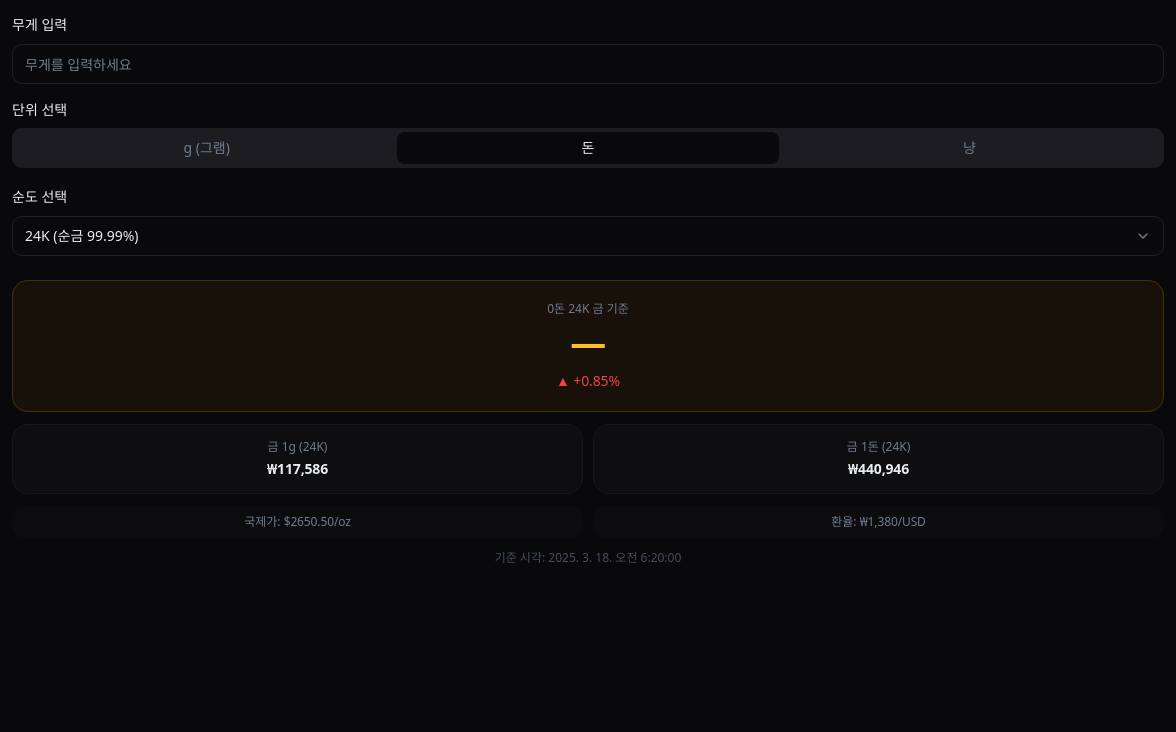
GoldCalculator › shows calculated price when weight is entered
Type "1" into the number field with test id "weight-input" at (588, 64), box [12,44,1164,84]
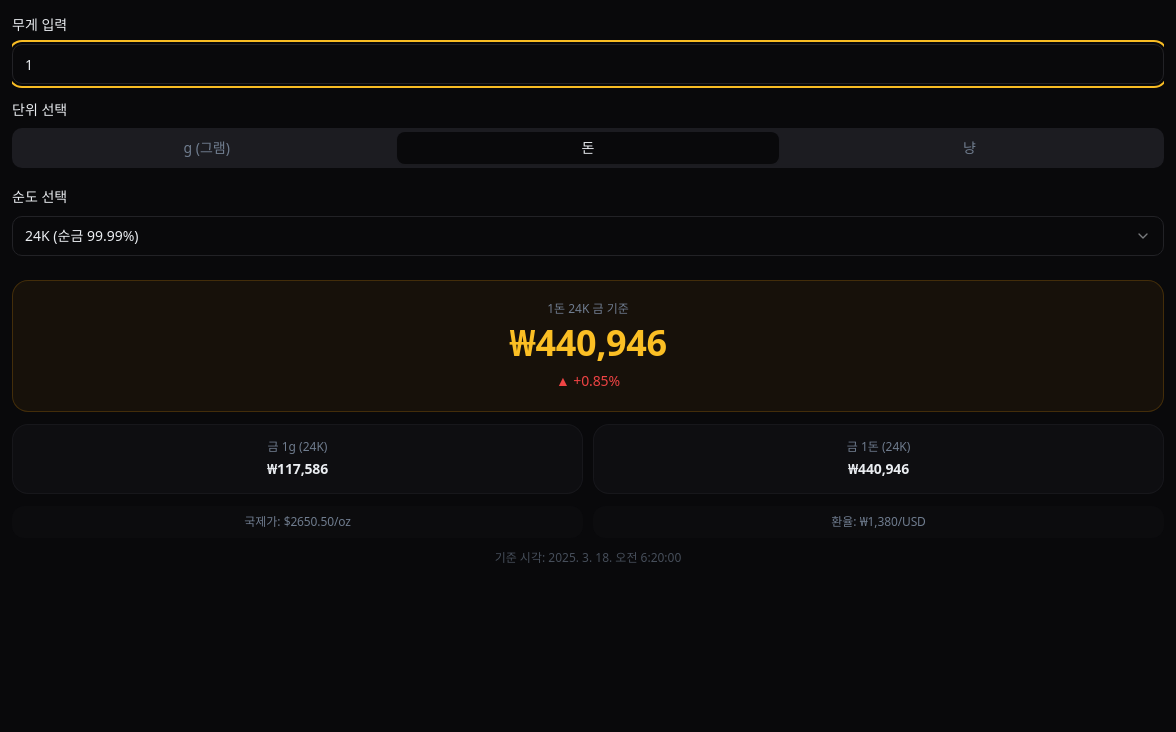
Result: the text with test id "total-price" no longer shows "—"
Result: the text with test id "total-price" shows "₩" at [509,318,667,367]
